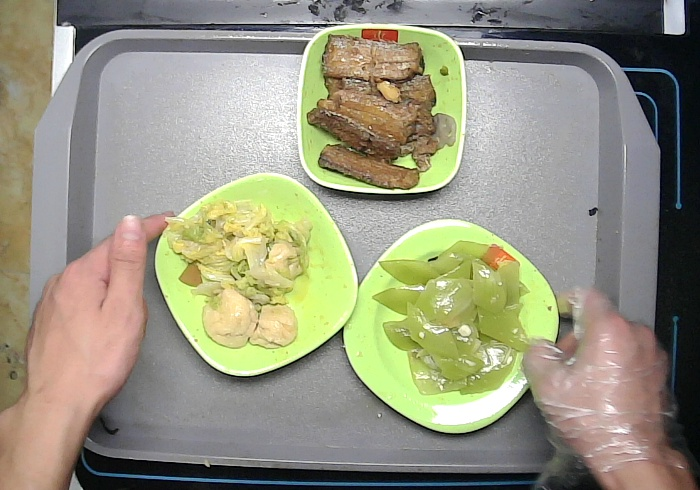SHKJ-Lv_Se_Cai_Die: (151, 170, 358, 378)
SHKJ-Lv_Se_Si_Fang_Cai_Die: (342, 217, 561, 433)
SHKJ-Lv_Se_Xiao_Fang_Die: (296, 23, 468, 195)
